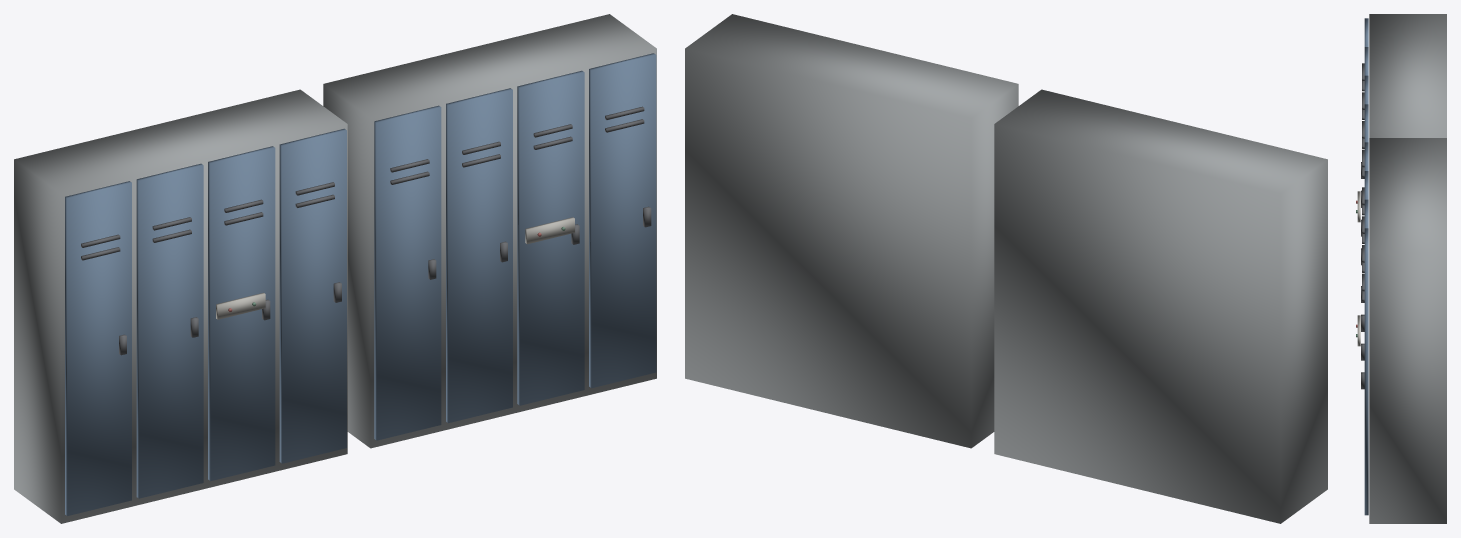
The model's file is school_locker_bank__cluster.glb.
The picture shows the model from 3 angles, left to right: view 1: azimuth 30°, elevation 25°; view 2: azimuth 150°, elevation 25°; view 3: azimuth 270°, elevation 25°; orthographic projection. The views are drawn at different scales.
Visible parts, largest first — view 1: world; view 2: world; view 3: world.
Part boxes in pixels (x1,y1,x2,y2): world: [14, 14, 656, 523]; world: [685, 14, 1327, 523]; world: [1356, 14, 1446, 523].
Bounding box in the file's own units: 3.49 × 1.85 × 0.561.
